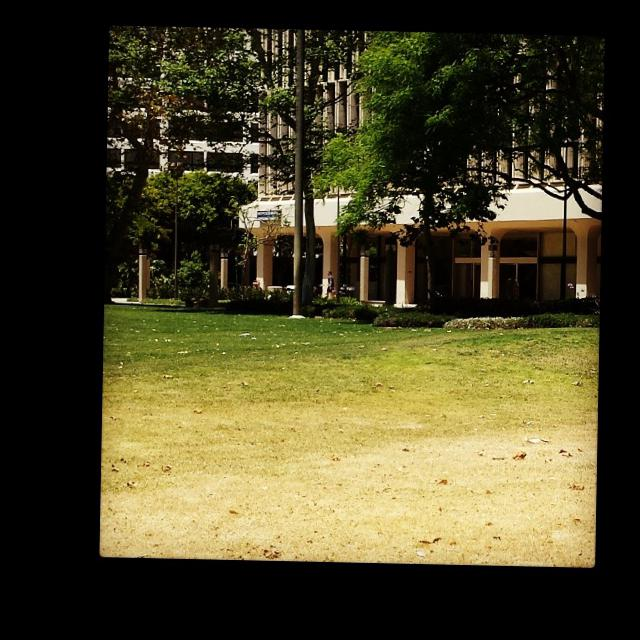patch: (190, 408, 404, 537), (450, 406, 568, 542)
